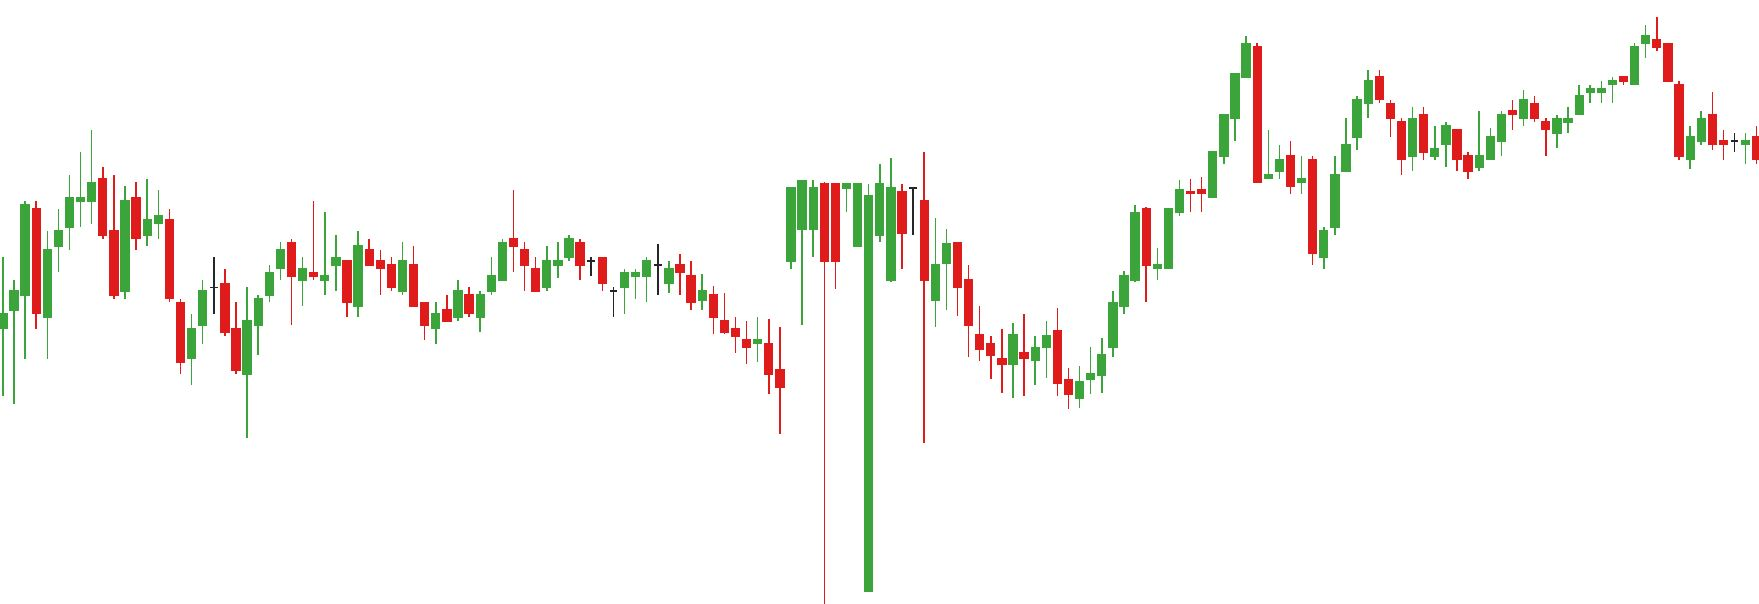buy: (174, 285, 255, 437)
